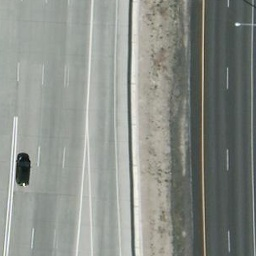car: (16, 154, 31, 185)
